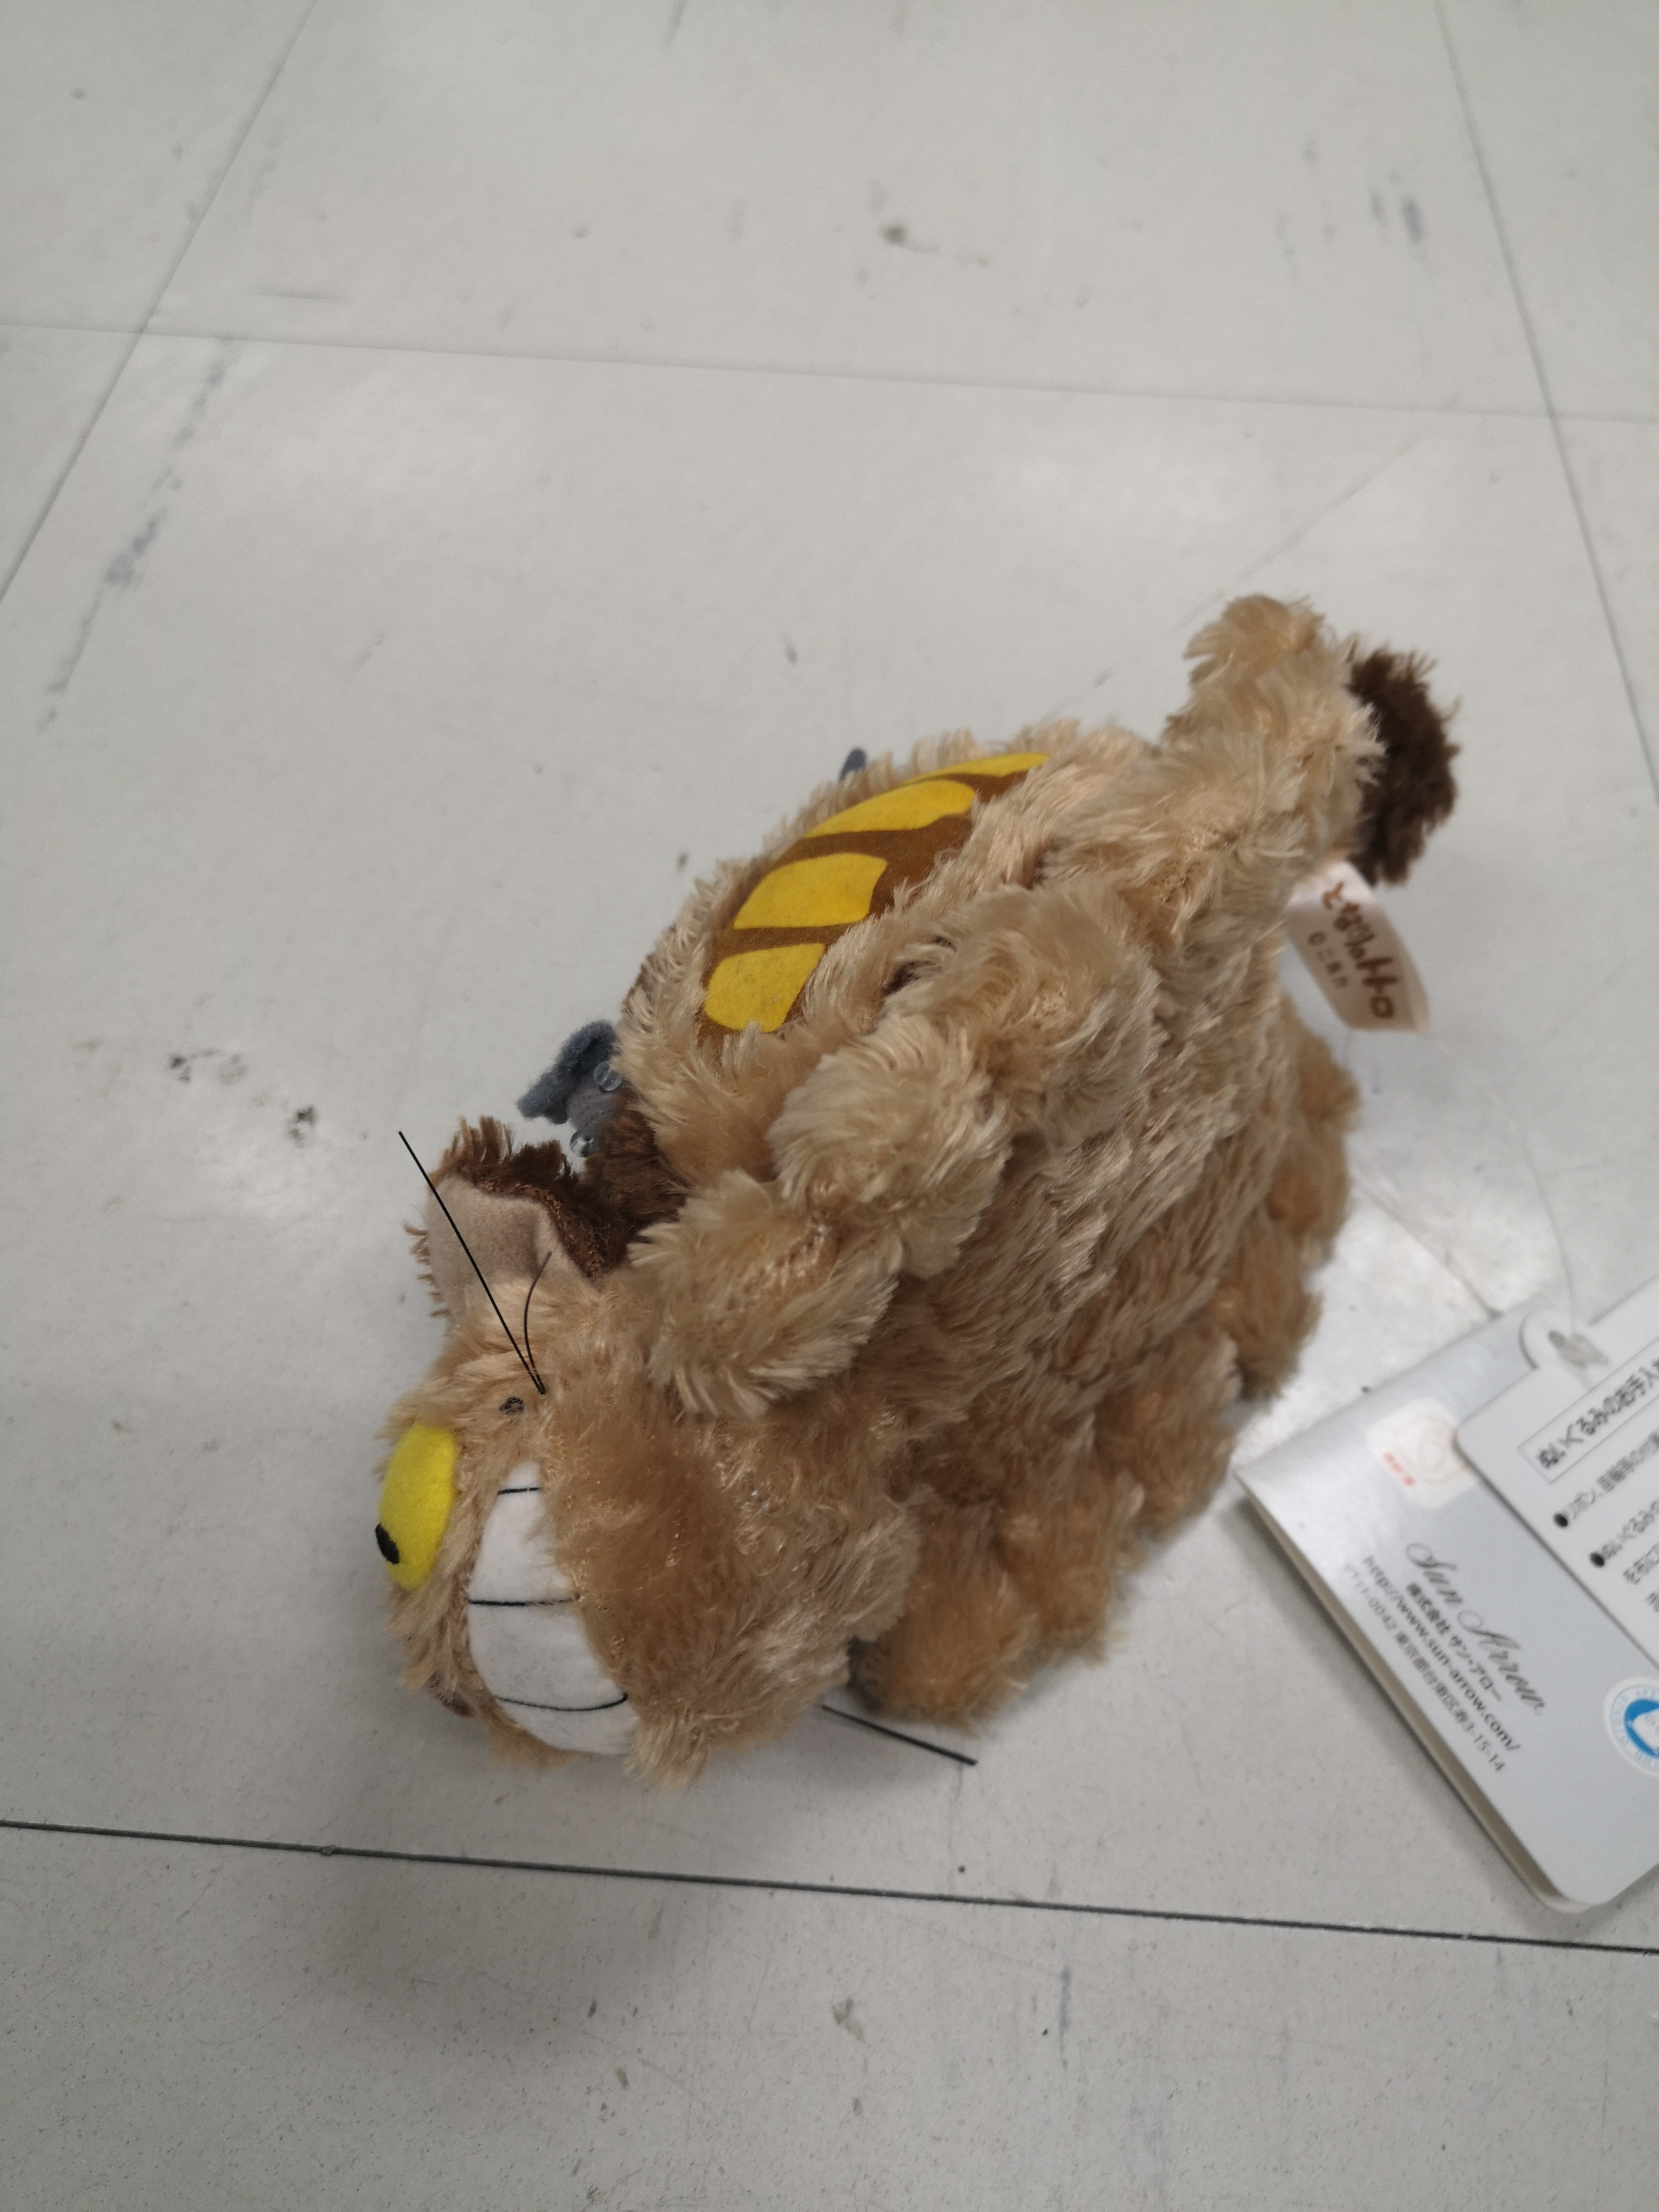nekobus: (347, 577, 1467, 1818)
